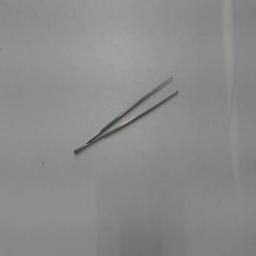Gillies Toothed Dissector: (69, 72, 189, 162)
